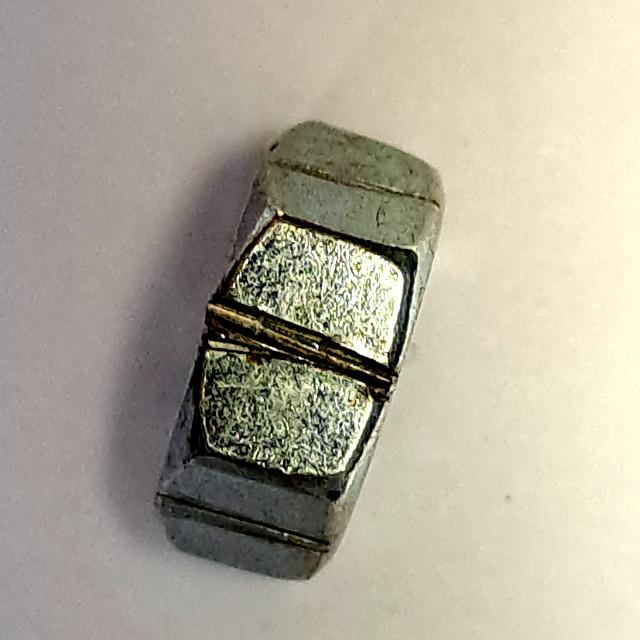Side_Scratches: (132, 102, 469, 592)
